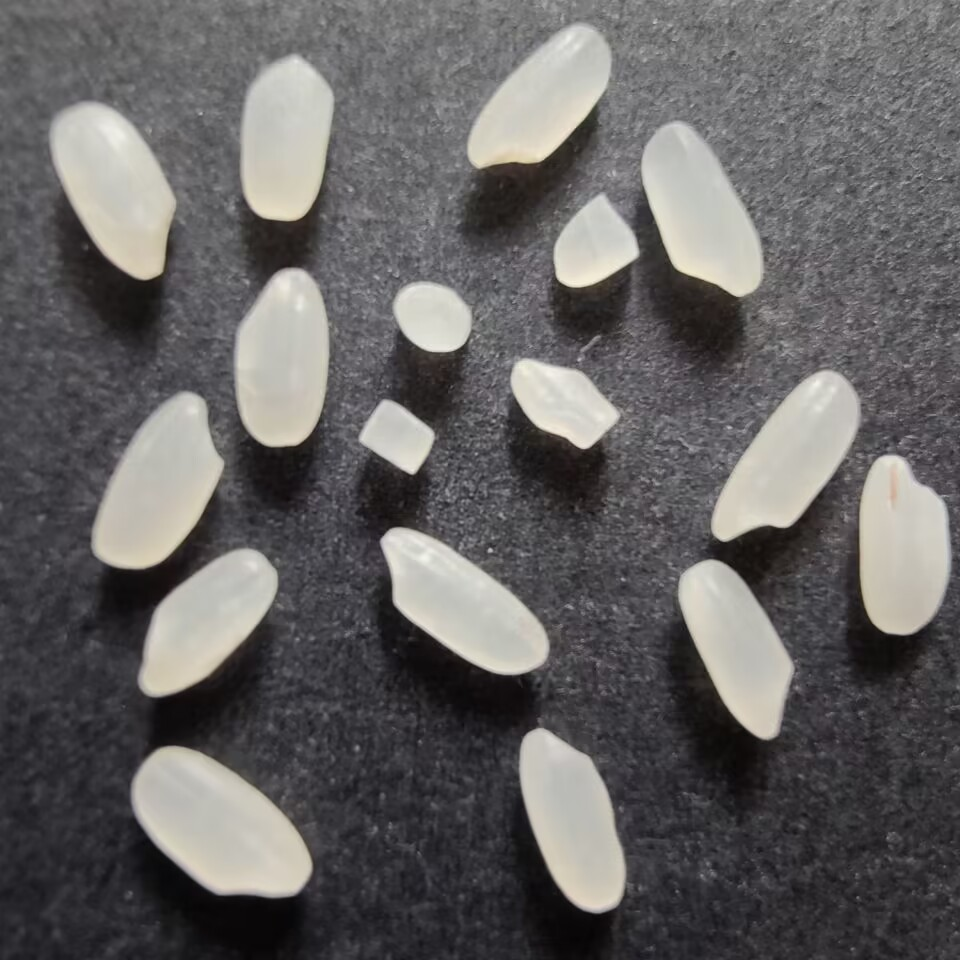broken: (508, 352, 623, 453), (549, 187, 644, 293), (392, 276, 479, 359), (355, 398, 439, 477)
rice: (126, 742, 316, 902), (707, 367, 864, 546), (377, 523, 552, 681), (84, 386, 226, 574), (45, 100, 182, 285), (132, 544, 281, 701), (515, 724, 633, 919), (640, 118, 765, 302), (466, 19, 613, 173), (676, 557, 797, 744), (228, 262, 332, 457), (853, 450, 953, 640), (236, 47, 336, 223)
